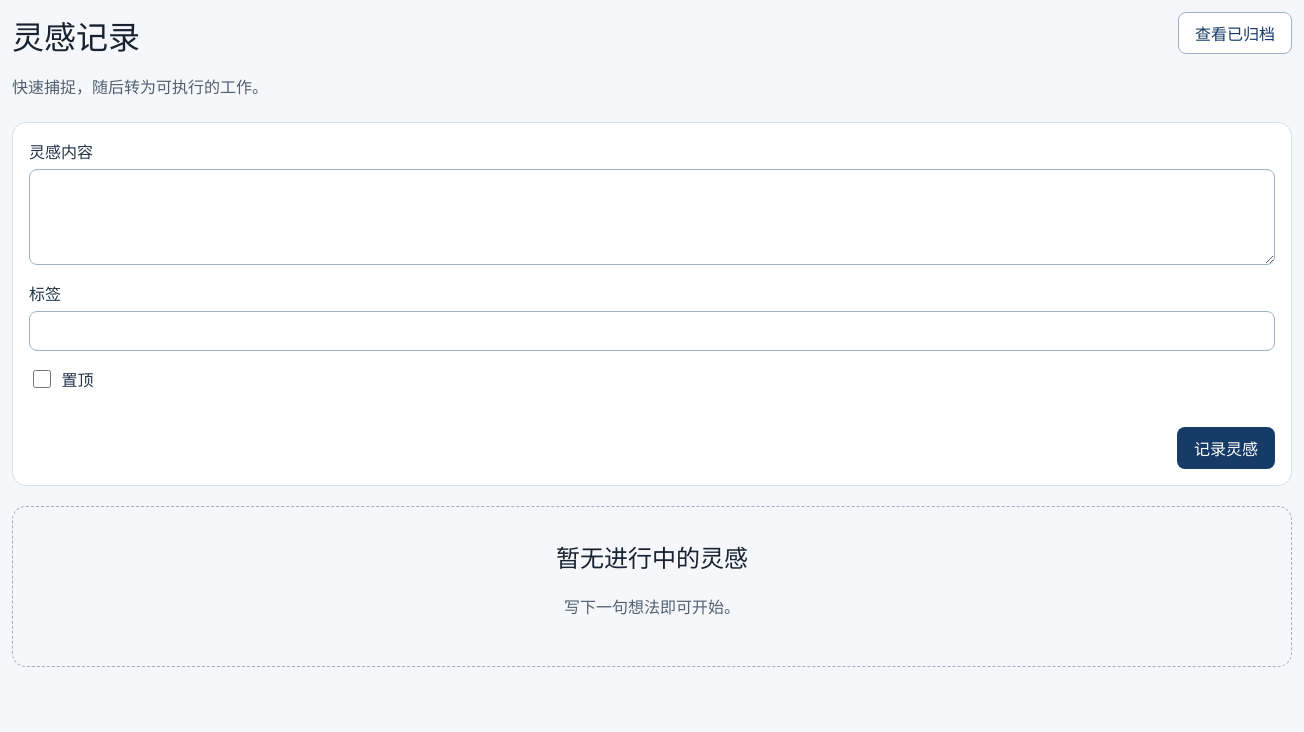
Test case: IdeaPage › captures an idea, pins it, and archives it
expect the heading "暂无进行中的灵感" is shown: met, box x1=556 y1=544 x2=748 y2=573
Type "整理教学评价方案" into the text box labelled "灵感内容" at {"x": 652, "y": 217}, box x1=29 y1=169 x2=1275 y2=265
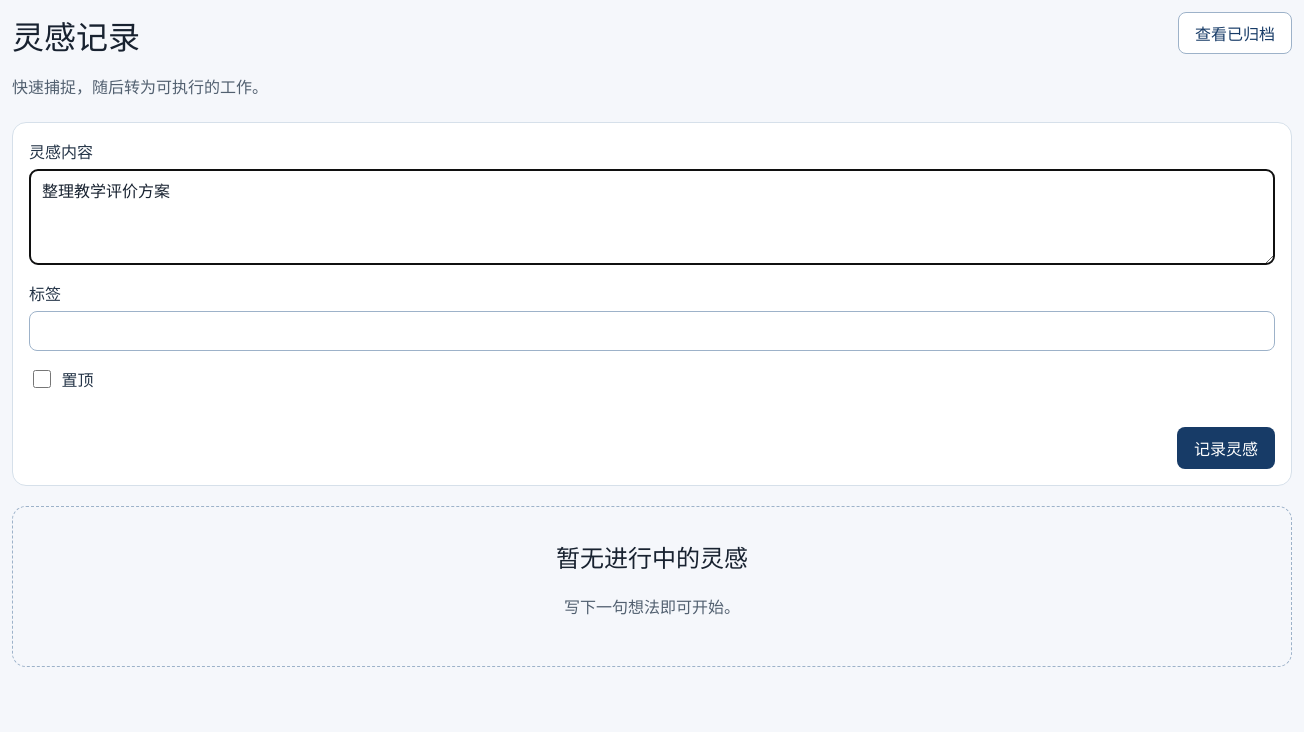
Type "教学,评价" into the field labelled "标签" at {"x": 652, "y": 331}, box x1=29 y1=311 x2=1275 y2=351
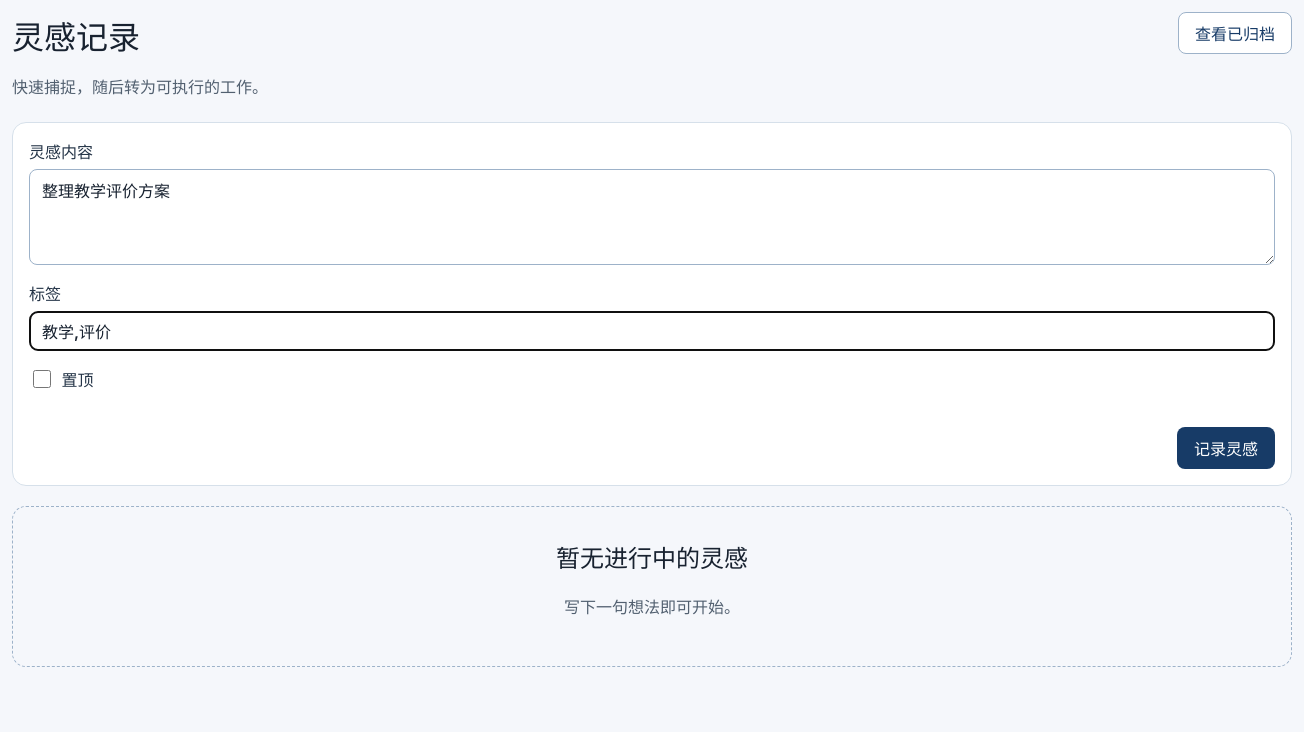
Click the button "记录灵感" at {"x": 1226, "y": 448}, box x1=1177 y1=427 x2=1275 y2=469
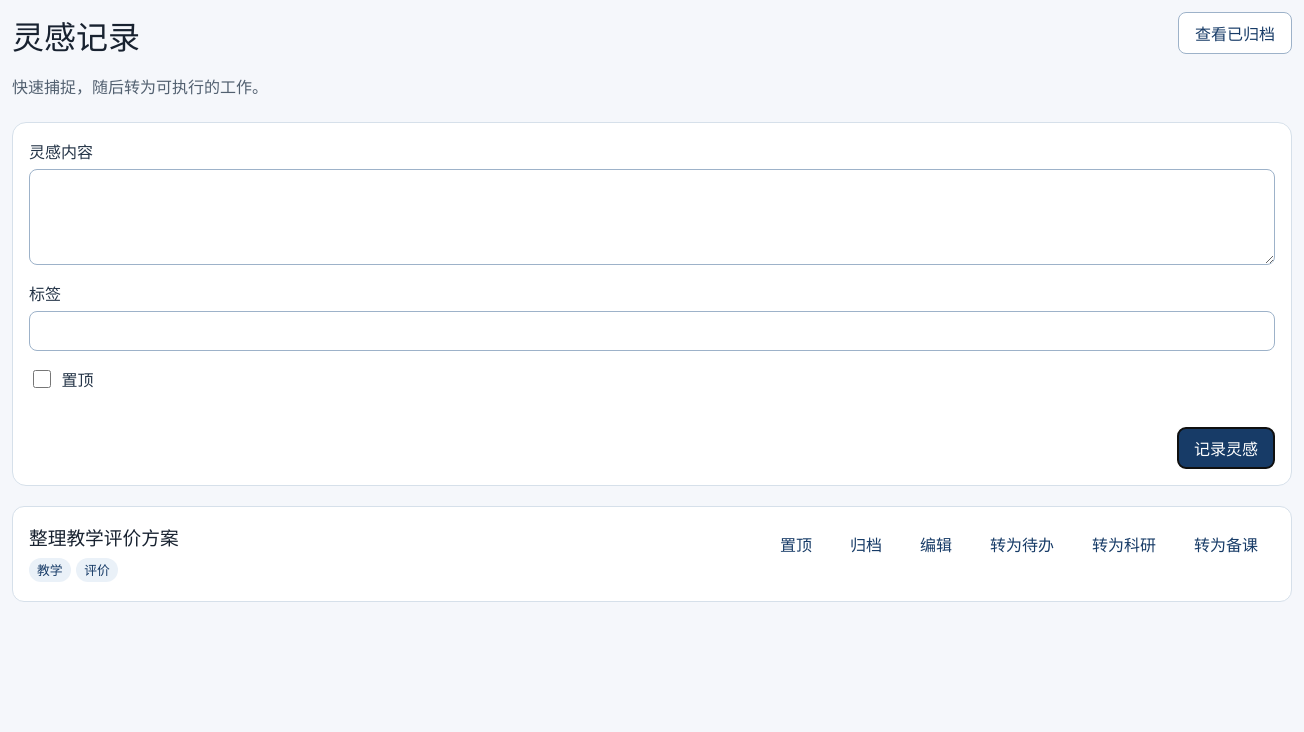
expect the heading "整理教学评价方案" is shown: met, box x1=29 y1=523 x2=179 y2=550
Click the button with aria-label "置顶整理教学评价方案" at {"x": 796, "y": 544}, box x1=763 y1=523 x2=829 y2=565
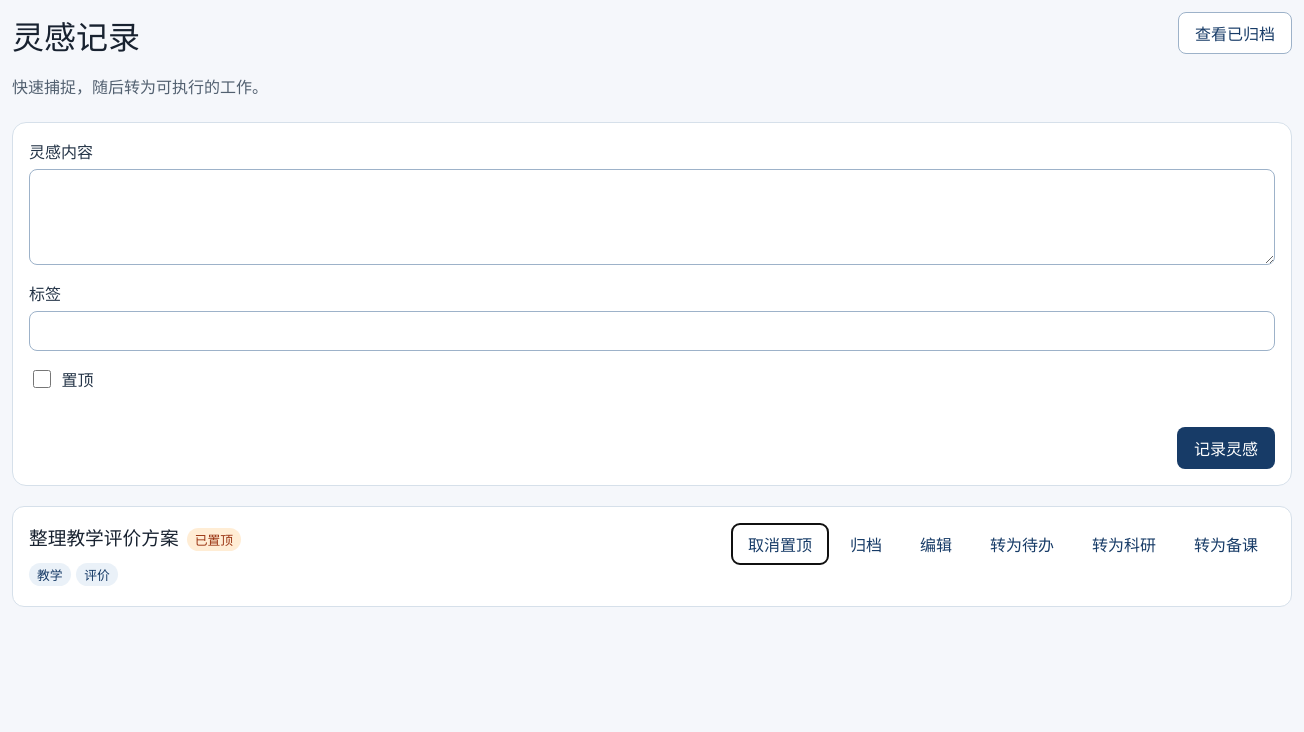
Click the button with aria-label "归档整理教学评价方案" at {"x": 866, "y": 544}, box x1=833 y1=523 x2=899 y2=565
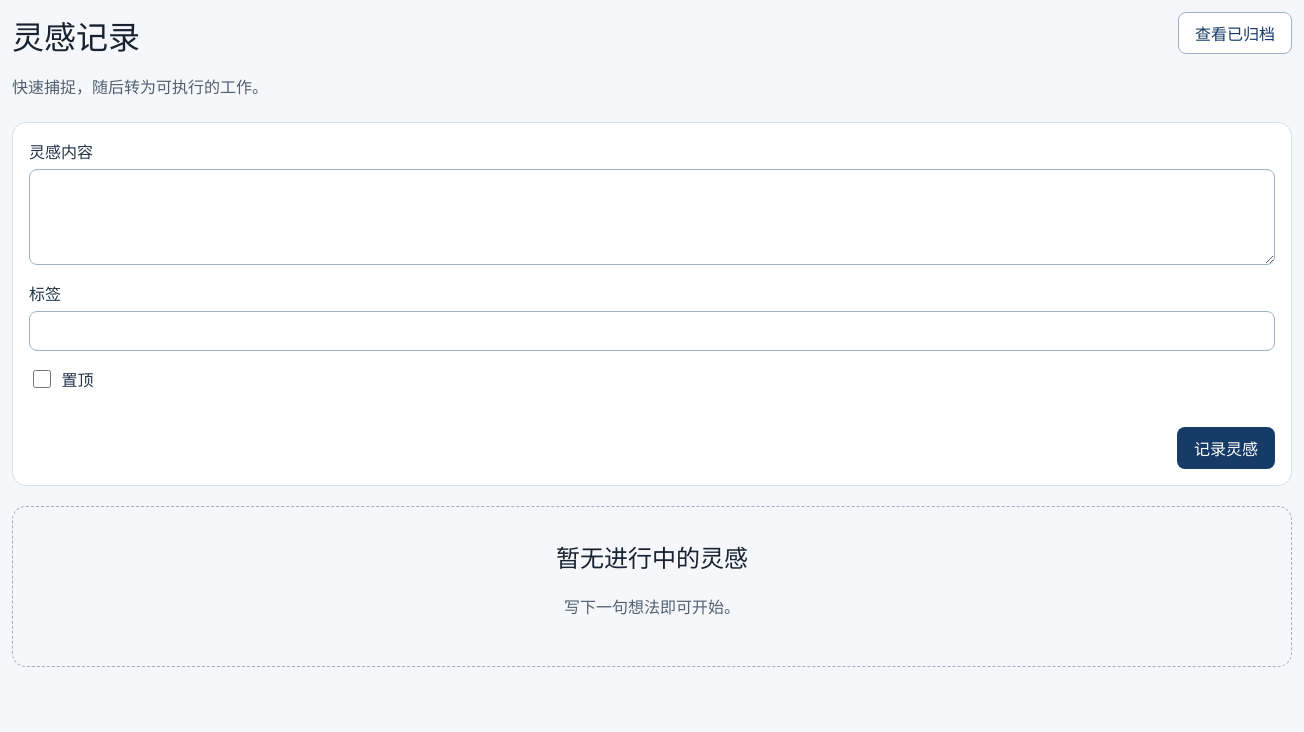
expect the heading "暂无进行中的灵感" is shown: met, box x1=556 y1=544 x2=748 y2=573
